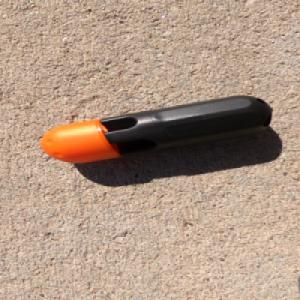PlasticPart: (39, 94, 273, 164)
